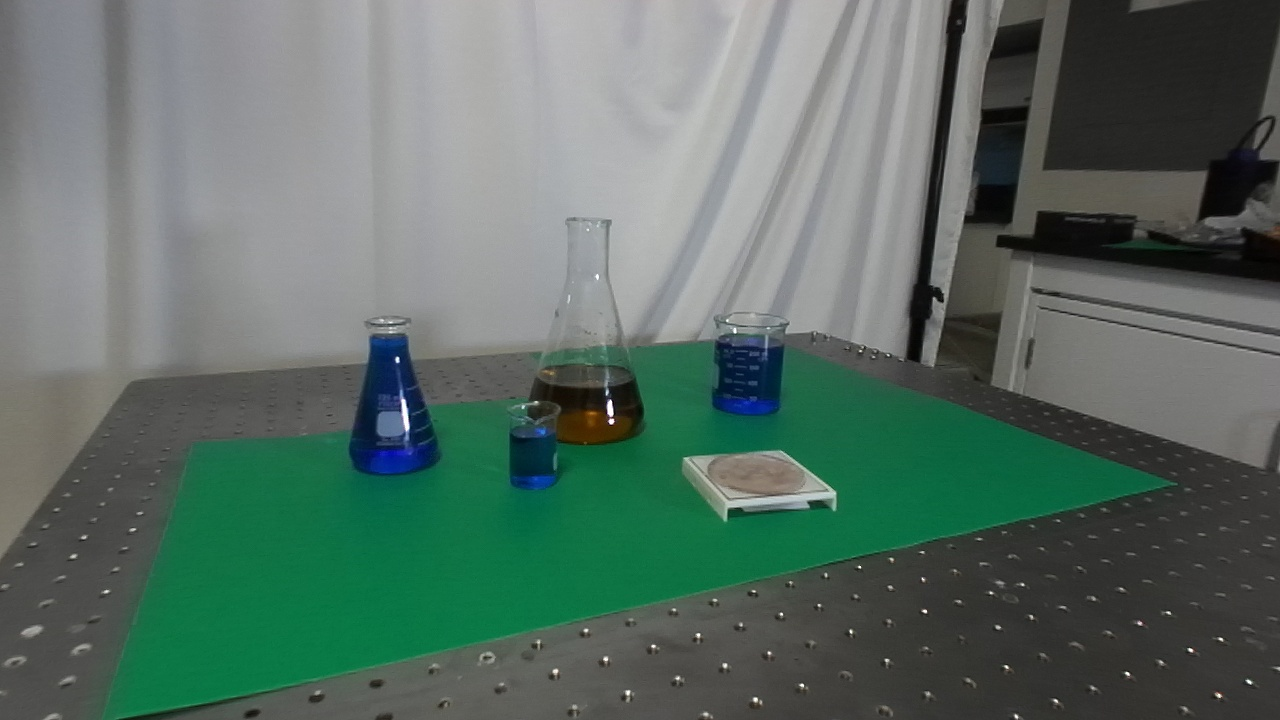glass: (524, 208, 650, 449), (341, 310, 447, 481), (705, 308, 795, 424), (502, 398, 565, 491)
plate: (675, 448, 841, 523)
